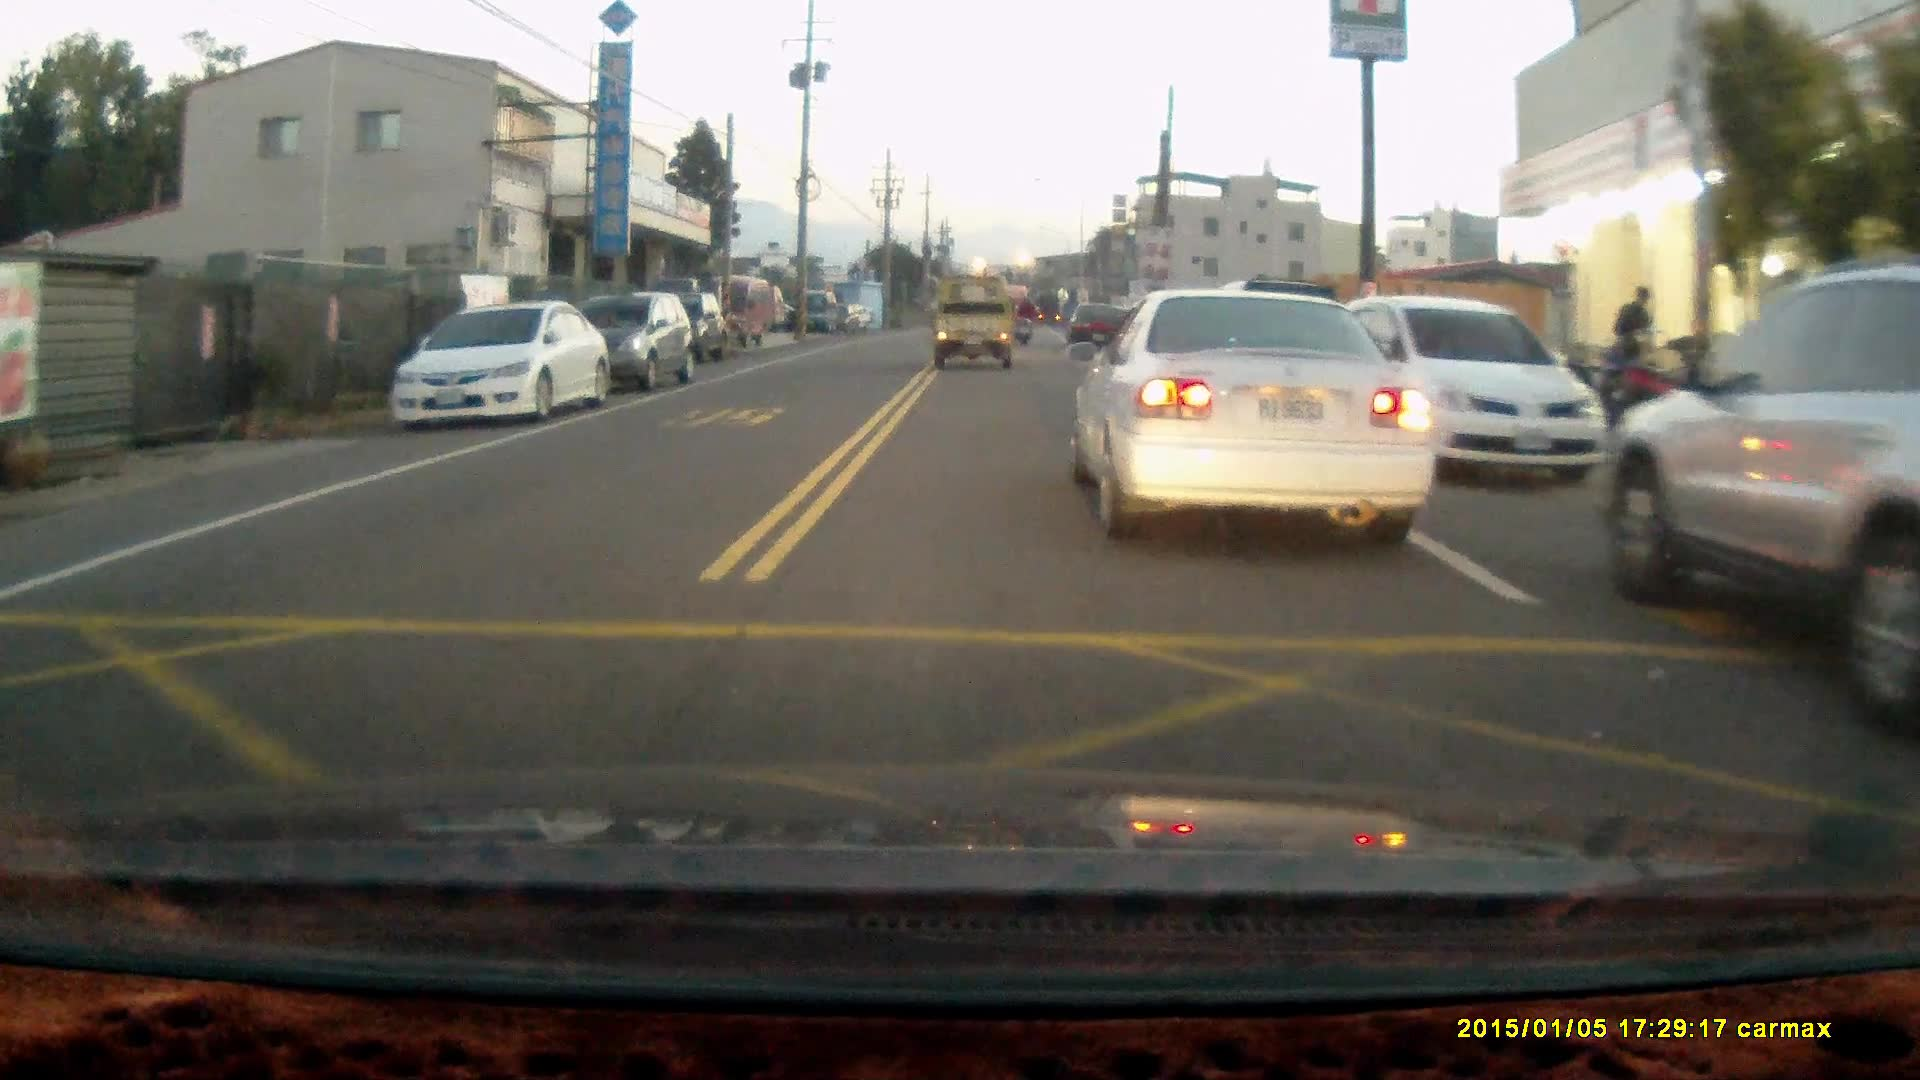pedestrian: (1608, 284, 1653, 393)
rider: (1009, 297, 1035, 345)
vehicle: (1607, 263, 1920, 742), (1078, 280, 1429, 536), (1327, 289, 1616, 486), (392, 290, 614, 426), (555, 286, 699, 394), (626, 273, 733, 363), (933, 272, 1021, 370), (713, 273, 780, 347), (1063, 299, 1127, 346)
